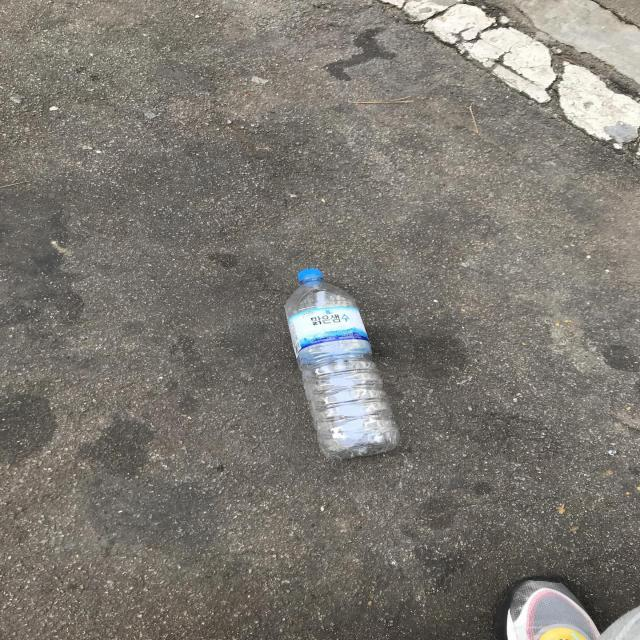plastic: (284, 268, 399, 459)
